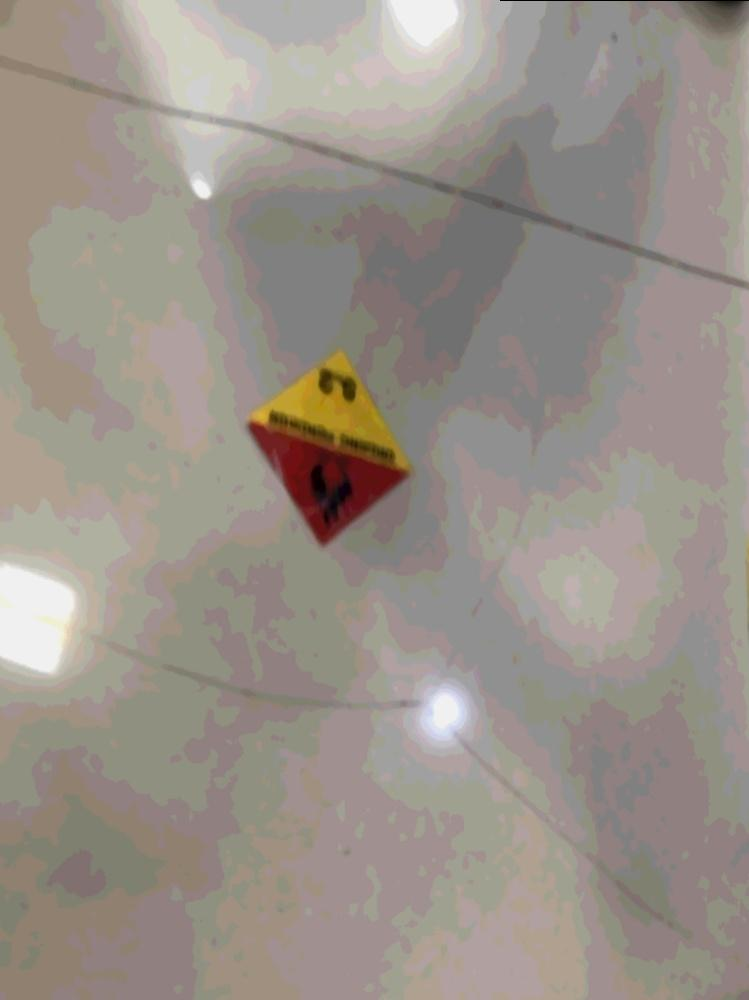organic-peroxide: (243, 333, 426, 561)
